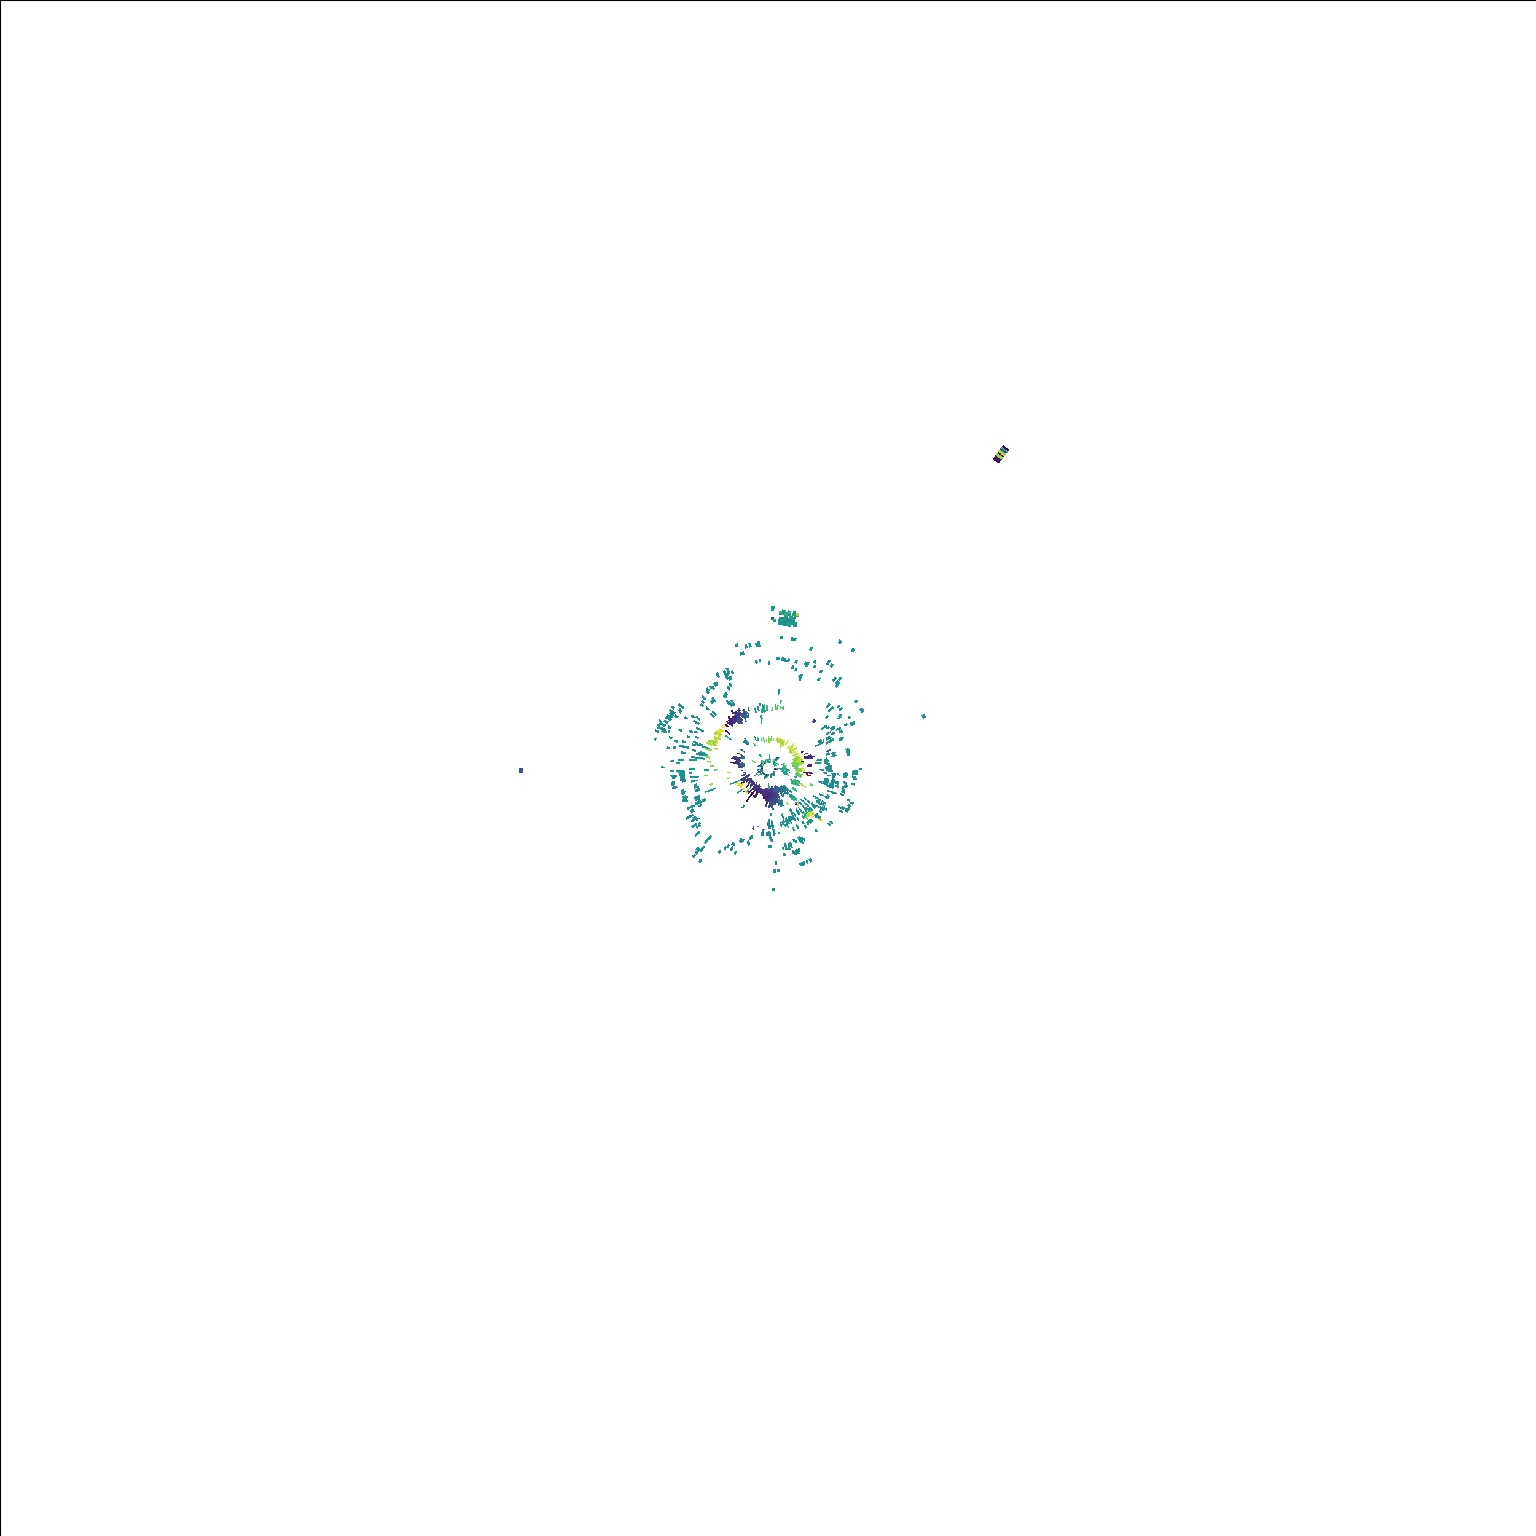fall: (990, 439, 1013, 468)
